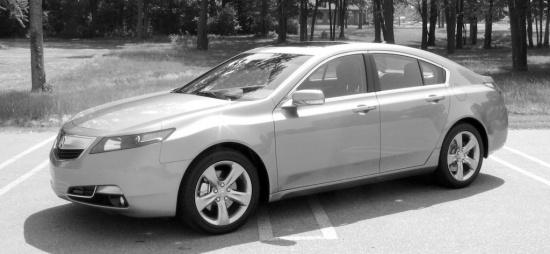car: (48, 41, 511, 237)
